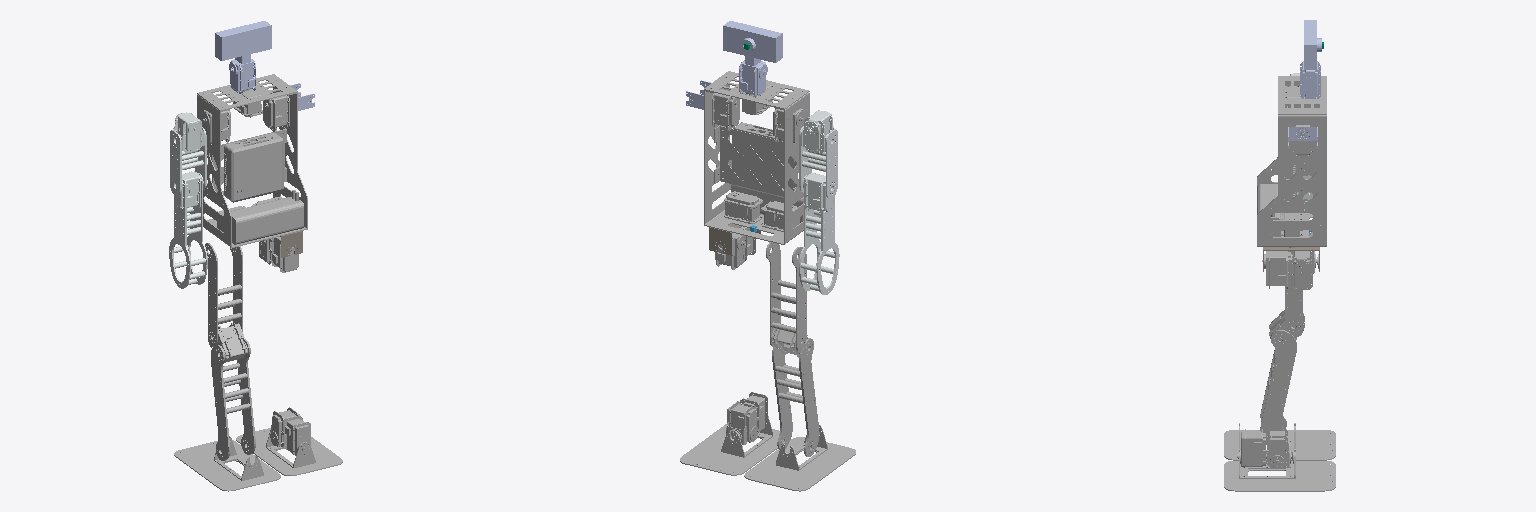
--- What the picture shows (computed from the rendered views, not written in the file) ---
The picture shows the robot from 3 angles, left to right: view 1: azimuth 30°, elevation 25°; view 2: azimuth 150°, elevation 25°; view 3: azimuth 270°, elevation 25°; orthographic projection.
Robot: SAKURA — 24 links, 23 joints (20 continuous, 2 fixed, 1 floating); root link world; default pose: every joint at zero.
Links seen in each view (by area): view 1: TRUNK, LLEG2, LLEG3, LARM2, LFOOT, LARM1, RFOOT, HEAD1, RLEG4, RLEG1, HEAD0; view 2: TRUNK, LFOOT, LARM2, LLEG3, LLEG2, RFOOT, LARM1, HEAD1, RLEG4, RLEG1, HEAD0, RLEG0; view 3: TRUNK, RFOOT, LLEG3, LFOOT, RLEG4, RLEG1, LLEG2, HEAD1, HEAD0.
Boxes of the visible links, bbox=[...] form: TRUNK: bbox=[197, 74, 307, 247]; LLEG2: bbox=[205, 243, 247, 362]; LLEG3: bbox=[211, 339, 255, 460]; LARM2: bbox=[169, 171, 207, 288]; LFOOT: bbox=[174, 436, 280, 491]; LARM1: bbox=[170, 112, 206, 195]; RFOOT: bbox=[236, 428, 342, 475]; HEAD1: bbox=[215, 21, 271, 63]; RLEG4: bbox=[270, 407, 310, 455]; RLEG1: bbox=[259, 237, 298, 272]; HEAD0: bbox=[229, 59, 255, 93]; TRUNK: bbox=[704, 71, 820, 244]; LFOOT: bbox=[744, 425, 855, 491]; LARM2: bbox=[799, 173, 839, 294]; LLEG3: bbox=[772, 338, 819, 456]; LLEG2: bbox=[766, 242, 808, 357]; RFOOT: bbox=[680, 416, 791, 475]; LARM1: bbox=[799, 110, 837, 198]; HEAD1: bbox=[723, 21, 782, 65]; RLEG4: bbox=[726, 392, 767, 444]; RLEG1: bbox=[715, 226, 755, 269]; HEAD0: bbox=[739, 60, 767, 97]; RLEG0: bbox=[709, 224, 760, 255]; TRUNK: bbox=[1257, 76, 1326, 247]; RFOOT: bbox=[1224, 449, 1335, 491]; LLEG3: bbox=[1260, 318, 1296, 441]; LFOOT: bbox=[1224, 423, 1335, 460]; RLEG4: bbox=[1237, 428, 1293, 468]; RLEG1: bbox=[1262, 251, 1318, 289]; LLEG2: bbox=[1269, 232, 1309, 340]; HEAD1: bbox=[1304, 20, 1321, 69]; HEAD0: bbox=[1300, 61, 1320, 98].
Size in the robot's own frame: 0.2935 by 0.208 by 0.8793 metres.
13 mesh visuals loaded from 21 distinct referenced files (13 binary STL); not drawn: 8 (reference not matched to a file when rendering).

The robot description file, URDF, robot "SAKURA":
<?xml version="1.0"?>
<robot
  name="SAKURA">	
    <!-- camera -->
  <gazebo reference="camera_link">
    <sensor type="camera" name="camera">
      <update_rate>30.0</update_rate>
      <camera name="head">
        <horizontal_fov>1.3962634</horizontal_fov>
        <image>
          <width>800</width>
          <height>800</height>
          <format>R8G8B8</format>
        </image>
        <clip>
          <near>0.02</near>
          <far>300</far>
        </clip>
        <noise>
          <type>gaussian</type>
          <!-- Noise is sampled independently per pixel on each frame.
               That pixel's noise value is added to each of its color
               channels, which at that point lie in the range [0,1]. -->
          <mean>0.0</mean>
          <stddev>0.007</stddev>
        </noise>
      </camera>
      <plugin name="camera_controller" filename="libgazebo_ros_camera.so">
        <alwaysOn>true</alwaysOn>
        <updateRate>0.0</updateRate>
        <cameraName>humanoid/camera</cameraName>
        <imageTopicName>image_raw</imageTopicName>
        <cameraInfoTopicName>camera_info</cameraInfoTopicName>
        <frameName>camera_link</frameName>
        <hackBaseline>0.07</hackBaseline>
        <distortionK1>0.0</distortionK1>
        <distortionK2>0.0</distortionK2>
        <distortionK3>0.0</distortionK3>
        <distortionT1>0.0</distortionT1>
        <distortionT2>0.0</distortionT2>
      </plugin>
    </sensor>
  </gazebo>
  
  <gazebo reference="imu_link">
    <gravity>true</gravity>
    <sensor name="imu_sensor" type="imu">
      <always_on>true</always_on>
      <update_rate>125</update_rate>
      <visualize>true</visualize>
      <topic>__default_topic__</topic>
      <plugin filename="libgazebo_ros_imu_sensor.so" name="imu_plugin">
        <topicName>imu/data_raw</topicName>
        <bodyName>imu_link</bodyName>
        <updateRateHZ>125.0</updateRateHZ>
        <gaussianNoise>0.0</gaussianNoise>
        <xyzOffset>0 0 0</xyzOffset>
        <rpyOffset>0 0 0</rpyOffset>
        <frameName>imu_link</frameName>
      </plugin>
      <pose>0 0 0 0 0 0</pose>
    </sensor>
  </gazebo>
  <gazebo>
    <plugin filename="libgazebo_ros_control.so" name="gazebo_ros_control">
      <robotNamespace>/SAKURA</robotNamespace>
      <robotSimType>gazebo_ros_control/DefaultRobotHWSim</robotSimType>
    </plugin>
  </gazebo>
<gazebo reference="J_HEAD0">
	<stopErp>0.2</stopErp>
	<implicitSpringDamper>true</implicitSpringDamper>
	<fudgeFactor value="0.8"/>
	<provideFeedback>true</provideFeedback>
  </gazebo>  
  <gazebo reference="J_HEAD1">
	<stopErp>0.2</stopErp>
	<implicitSpringDamper>true</implicitSpringDamper>
	<fudgeFactor value="0.8"/>
	<provideFeedback>true</provideFeedback>
  </gazebo>  
  <gazebo reference="J_LARM0">
	<stopErp>0.2</stopErp>
	<implicitSpringDamper>true</implicitSpringDamper>
	<fudgeFactor value="0.8"/>
	<provideFeedback>true</provideFeedback>
  </gazebo>  
  <gazebo reference="J_LARM1">
	<stopErp>0.2</stopErp>
	<implicitSpringDamper>true</implicitSpringDamper>
	<fudgeFactor value="0.8"/>
	<provideFeedback>true</provideFeedback>
  </gazebo>  
  <gazebo reference="J_LARM2">
	<stopErp>0.2</stopErp>
	<implicitSpringDamper>true</implicitSpringDamper>
	<fudgeFactor value="0.8"/>
	<provideFeedback>true</provideFeedback>
  </gazebo>  
  <gazebo reference="J_RARM0">
	<stopErp>0.2</stopErp>
	<implicitSpringDamper>true</implicitSpringDamper>
	<fudgeFactor value="0.8"/>
	<provideFeedback>true</provideFeedback>
  </gazebo>  
  <gazebo reference="J_RARM1">
	<stopErp>0.2</stopErp>
	<implicitSpringDamper>true</implicitSpringDamper>
	<fudgeFactor value="0.8"/>
	<provideFeedback>true</provideFeedback>
  </gazebo>  
  <gazebo reference="J_LLEG0">
	<stopErp>0.2</stopErp>
	<implicitSpringDamper>true</implicitSpringDamper>
	<fudgeFactor value="0.8"/>
	<provideFeedback>true</provideFeedback>
  </gazebo>  
  <gazebo reference="J_LLEG1">
	<stopErp>0.2</stopErp>
	<implicitSpringDamper>true</implicitSpringDamper>
	<fudgeFactor value="0.8"/>
	<provideFeedback>true</provideFeedback>
  </gazebo>  
  <gazebo reference="J_LLEG2">
	<stopErp>0.2</stopErp>
	<implicitSpringDamper>true</implicitSpringDamper>
	<fudgeFactor value="0.8"/>
	<provideFeedback>true</provideFeedback>
  </gazebo>  
  <gazebo reference="J_LLEG3">
	<stopErp>0.2</stopErp>
	<implicitSpringDamper>true</implicitSpringDamper>
	<fudgeFactor value="0.8"/>
	<provideFeedback>true</provideFeedback>
  </gazebo>  
  <gazebo reference="J_LLEG4">
	<stopErp>0.2</stopErp>
	<implicitSpringDamper>true</implicitSpringDamper>
	<fudgeFactor value="0.8"/>
	<provideFeedback>true</provideFeedback>
  </gazebo>  
  <gazebo reference="J_RLEG0">
	<stopErp>0.2</stopErp>
	<implicitSpringDamper>true</implicitSpringDamper>
	<fudgeFactor value="0.8"/>
	<provideFeedback>true</provideFeedback>
  </gazebo>  
  <gazebo reference="J_RLEG1">
	<stopErp>0.2</stopErp>
	<implicitSpringDamper>true</implicitSpringDamper>
	<fudgeFactor value="0.8"/>
	<provideFeedback>true</provideFeedback>
  </gazebo>  
  <gazebo reference="J_RLEG2">
	<stopErp>0.2</stopErp>
	<implicitSpringDamper>true</implicitSpringDamper>
	<fudgeFactor value="0.8"/>
	<provideFeedback>true</provideFeedback>
  </gazebo>  
  <gazebo reference="J_RLEG3">
	<stopErp>0.2</stopErp>
	<implicitSpringDamper>true</implicitSpringDamper>
	<fudgeFactor value="0.8"/>
	<provideFeedback>true</provideFeedback>
  </gazebo>  
  <gazebo reference="J_RLEG4">
	<stopErp>0.2</stopErp>
	<implicitSpringDamper>true</implicitSpringDamper>
	<fudgeFactor value="0.8"/>
	<provideFeedback>true</provideFeedback>
  </gazebo> 
  <gazebo reference="J_RARM2">
	<stopErp>0.2</stopErp>
	<implicitSpringDamper>true</implicitSpringDamper>
	<fudgeFactor value="0.8"/>
	<provideFeedback>true</provideFeedback>
  </gazebo> 
  <gazebo reference="J_LFOOT">
	<stopErp>0.2</stopErp>
	<implicitSpringDamper>true</implicitSpringDamper>
	<fudgeFactor value="0.8"/>
	<provideFeedback>true</provideFeedback>
  </gazebo>  
  <gazebo reference="J_RFOOT">
	<stopErp>0.2</stopErp>
	<implicitSpringDamper>true</implicitSpringDamper>
	<fudgeFactor value="0.8"/>
	<provideFeedback>true</provideFeedback>
  </gazebo>  
  <gazebo reference="TRUNK">
    <mu1>1.0</mu1>
    <mu2>1.0</mu2>
    <kp>1220000.0</kp>
    <kd>1.0</kd> <!---->
  </gazebo>
  <gazebo reference="RFOOT">
    <mu1>1.0</mu1>
    <mu2>1.0</mu2>
    <kp>1220000.0</kp>
    <kd>1.0</kd> <!---->
  </gazebo>
  <gazebo reference="LFOOT">
    <mu1>1.0</mu1>
    <mu2>1.0</mu2>
    <kp>1220000.0</kp>
    <kd>1.0</kd> <!---->
  </gazebo>  
<!-- FT SENSORS -->
<!--  <gazebo>
	<plugin name="ft_sensor" filename="libgazebo_ros_ft_sensor.so">
	  <updateRate>100.0</updateRate>
	  <topicName>ft_sensor_head0</topicName>
	  <jointName>J_HEAD0</jointName>
	</plugin>
  </gazebo>
  <gazebo>
	<plugin name="ft_sensor" filename="libgazebo_ros_ft_sensor.so">
	  <updateRate>100.0</updateRate>
	  <topicName>ft_sensor_head1</topicName>
	  <jointName>J_HEAD1</jointName>
	</plugin>
  </gazebo>

  <gazebo>
	<plugin name="ft_sensor" filename="libgazebo_ros_ft_sensor.so">
	  <updateRate>100.0</updateRate>
	  <topicName>ft_sensor_larm0</topicName>
	  <jointName>J_LARM0</jointName>
	</plugin>
  </gazebo>
  <gazebo>
	<plugin name="ft_sensor" filename="libgazebo_ros_ft_sensor.so">
	  <updateRate>100.0</updateRate>
	  <topicName>ft_sensor_larm1</topicName>
	  <jointName>J_LARM1</jointName>
	</plugin>
  </gazebo>
  <gazebo>
	<plugin name="ft_sensor" filename="libgazebo_ros_ft_sensor.so">
	  <updateRate>100.0</updateRate>
	  <topicName>ft_sensor_larm2</topicName>
	  <jointName>J_LARM2</jointName>
	</plugin>
  </gazebo>
  
  
    <gazebo>
	<plugin name="ft_sensor" filename="libgazebo_ros_ft_sensor.so">
	  <updateRate>100.0</updateRate>
	  <topicName>ft_sensor_rarm0</topicName>
	  <jointName>J_RARM0</jointName>
	</plugin>
  </gazebo>
  <gazebo>
	<plugin name="ft_sensor" filename="libgazebo_ros_ft_sensor.so">
	  <updateRate>100.0</updateRate>
	  <topicName>ft_sensor_rarm1</topicName>
	  <jointName>J_RARM1</jointName>
	</plugin>
  </gazebo>
  <gazebo>
	<plugin name="ft_sensor" filename="libgazebo_ros_ft_sensor.so">
	  <updateRate>100.0</updateRate>
	  <topicName>ft_sensor_rarm2</topicName>
	  <jointName>J_RARM2</jointName>
	</plugin>
  </gazebo>
  
  
  
  <gazebo>
	<plugin name="ft_sensor" filename="libgazebo_ros_ft_sensor.so">
	  <updateRate>100.0</updateRate>
	  <topicName>ft_sensor_lleg0</topicName>
	  <jointName>J_LLEG0</jointName>
	</plugin>
  </gazebo>
    <gazebo>
	<plugin name="ft_sensor" filename="libgazebo_ros_ft_sensor.so">
	  <updateRate>100.0</updateRate>
	  <topicName>ft_sensor_lleg1</topicName>
	  <jointName>J_LLEG1</jointName>
	</plugin>
  </gazebo>
    <gazebo>
	<plugin name="ft_sensor" filename="libgazebo_ros_ft_sensor.so">
	  <updateRate>100.0</updateRate>
	  <topicName>ft_sensor_lleg2</topicName>
	  <jointName>J_LLEG2</jointName>
	</plugin>
  </gazebo>
    <gazebo>
	<plugin name="ft_sensor" filename="libgazebo_ros_ft_sensor.so">
	  <updateRate>100.0</updateRate>
	  <topicName>ft_sensor_lleg3</topicName>
	  <jointName>J_LLEG3</jointName>
	</plugin>
  </gazebo>
    <gazebo>
	<plugin name="ft_sensor" filename="libgazebo_ros_ft_sensor.so">
	  <updateRate>100.0</updateRate>
	  <topicName>ft_sensor_lleg4</topicName>
	  <jointName>J_LLEG4</jointName>
	</plugin>
  </gazebo>
    <gazebo>
	<plugin name="ft_sensor" filename="libgazebo_ros_ft_sensor.so">
	  <updateRate>100.0</updateRate>
	  <topicName>ft_sensor_lfoot</topicName>
	  <jointName>J_LFOOT</jointName>
	</plugin>
  </gazebo>
  
    <gazebo>
	<plugin name="ft_sensor" filename="libgazebo_ros_ft_sensor.so">
	  <updateRate>100.0</updateRate>
	  <topicName>ft_sensor_rleg0</topicName>
	  <jointName>J_RLEG0</jointName>
	</plugin>
  </gazebo>
    <gazebo>
	<plugin name="ft_sensor" filename="libgazebo_ros_ft_sensor.so">
	  <updateRate>100.0</updateRate>
	  <topicName>ft_sensor_rleg1</topicName>
	  <jointName>J_RLEG1</jointName>
	</plugin>
  </gazebo>
    <gazebo>
	<plugin name="ft_sensor" filename="libgazebo_ros_ft_sensor.so">
	  <updateRate>100.0</updateRate>
	  <topicName>ft_sensor_rleg2</topicName>
	  <jointName>J_RLEG2</jointName>
	</plugin>
  </gazebo>
    <gazebo>
	<plugin name="ft_sensor" filename="libgazebo_ros_ft_sensor.so">
	  <updateRate>100.0</updateRate>
	  <topicName>ft_sensor_rleg3</topicName>
	  <jointName>J_RLEG3</jointName>
	</plugin>
  </gazebo>
    <gazebo>
	<plugin name="ft_sensor" filename="libgazebo_ros_ft_sensor.so">
	  <updateRate>100.0</updateRate>
	  <topicName>ft_sensor_rleg4</topicName>
	  <jointName>J_RLEG4</jointName>
	</plugin>
  </gazebo>
    <gazebo>
	<plugin name="ft_sensor" filename="libgazebo_ros_ft_sensor.so">
	  <updateRate>100.0</updateRate>
	  <topicName>ft_sensor_rfoot</topicName>
	  <jointName>J_RFOOT</jointName>
	</plugin>
  </gazebo>
  
  -->
  
  
  

  <link name="world">  </link>
  
  <link name="imu_link">
    <collision>
      <origin xyz="0 0 0" rpy="0 0 0"/>
      <geometry>
    <box size="0.01 0.01 0.01"/>
      </geometry>
    </collision>

    <visual>
      <origin xyz="0 0 0" rpy="0 0 0"/>
      <geometry>
    <box size="0.01 0.01 0.01"/>
      </geometry>
      <material name="red"/>
    </visual>

    <inertial>
      <mass value="1e-5" />
      <origin xyz="0 0 0" rpy="0 0 0"/>
      <inertia ixx="1e-6" ixy="0" ixz="0" iyy="1e-6" iyz="0" izz="1e-6" />
    </inertial>
  </link>
  <joint name="imu_joint" type="fixed">
    <axis xyz="-1 0 0" />
    <origin xyz="0 0 0" rpy="0 0 0"/>
    <parent link="TRUNK"/>
    <child link="imu_link"/>
  </joint>
  
  
   <!-- Camera -->
  <link name="camera_link">
    <visual>
      <origin xyz="0 0 0" rpy="0 0 0"/>
      <geometry>
    <box size="0.01 0.01 0.01"/>
      </geometry>
      <material name="red"/>
    </visual>

    <inertial>
      <mass value="1e-5" />
      <origin xyz="0 0 0" rpy="0 0 0"/>
      <inertia ixx="1e-6" ixy="0" ixz="0" iyy="1e-6" iyz="0" izz="1e-6" />
    </inertial>
  </link>
  
  <joint name="camera_joint" type="fixed">
    <axis xyz="0 0 1" />
    <origin xyz="0.02 0.055 0.00" rpy="-1.5707 0 0"/>
    <parent link="HEAD1"/>
    <child link="camera_link"/>
  </joint>

  
  
  
  <link
    name="TRUNK">
    <inertial>
      <origin
        xyz="-0.000142944293532541 -0.0159940135836359 0.119253638413231"
        rpy="0 0 0" />
      <mass
        value="1.4778155091901" />
      <inertia
        ixx="0.0125398154437975"
        ixy="-2.68478156217668E-06"
        ixz="-7.17353402812125E-06"
        iyy="0.016695640033345"
        iyz="0.000776177026664091"
        izz="0.01567882258573842" />
    </inertial>
    <visual>
      <origin
        xyz="0 0 0"
        rpy="0 0 0" />
      <geometry>
        <mesh
          filename="package://sakura_description/meshes/TRUNK.STL" />
      </geometry>
      <material
        name="">
        <color
          rgba="0.752941176470588 0.752941176470588 0.752941176470588 1" />
      </material>
    </visual>
  </link>
  <joint name="fixed" type="floating">
    <parent link="world"/>
    <child link="TRUNK"/>
    <origin xyz="0 0 0.50" rpy="0 0 0"/>
  </joint>
  <link
    name="HEAD0">
    <inertial>
      <origin
        xyz="-4.1596E-06 -0.00045169 0.0273"
        rpy="0 0 0" />
      <mass
        value="0.072495" />
      <inertia ixx="1e-3" ixy="0" ixz="0" iyy="1e-3" iyz="0" izz="1e-3" />
    </inertial>
    <visual>
      <origin
        xyz="0 0 0"
        rpy="0 0 0" />
      <geometry>
        <mesh
          filename="package://sakura_description/meshes/HEAD0.STL" />
      </geometry>
      <material
        name="">
        <color
          rgba="0.79216 0.81961 0.93333 1" />
      </material>
    </visual>
  </link>
  <link
    name="HEAD1">
    <inertial>
      <origin
        xyz="0.000492167176094648 0.0499545659310894 -2.08166817117217E-17"
        rpy="0 0 0" />
      <mass
        value="0.160467558648652" />
      <inertia ixx="1e-3" ixy="0" ixz="0" iyy="1e-3" iyz="0" izz="1e-3" />
    </inertial>
    <visual>
      <origin
        xyz="0 0 0"
        rpy="0 0 0" />
      <geometry>
        <mesh
          filename="package://sakura_description/meshes/HEAD1.STL" />
      </geometry>
      <material
        name="">
        <color
          rgba="0.792156862745098 0.819607843137255 0.933333333333333 1" />
      </material>
    </visual>
  </link>

  
  <joint
    name="J_HEAD0"
    type="continuous">
    <origin
      xyz="0 0.002 0.2785"
      rpy="1.4544E-15 -1.8159E-16 -1.5708" />
    <parent
      link="TRUNK" />
    <child
      link="HEAD0" />
    <axis
      xyz="0 0 1" />
    <limit
      effort="10"
      velocity="8.58" />
    <dynamics 
	  damping="0.7"
	  friction="0.5"/>
  </joint>
  
  <joint
    name="J_HEAD1"
    type="continuous">
    <origin
      xyz="0 -0.0005 0.0425"
      rpy="1.5708 1.2443E-15 3.1416" />
    <parent
      link="HEAD0" />
    <child
      link="HEAD1" />
    <axis
      xyz="0 0 -1" />
    <limit
      effort="10"
      velocity="8.58" />
    <dynamics 
	  damping="0.7"
	  friction="0.5"/>
  </joint>
  
  <link
    name="LARM0">
    <inertial>
      <origin
        xyz="4.16333634234434E-17 2.77555756156289E-17 0.0103025666414173"
        rpy="0 0 0" />
      <mass
        value="0.0066175226097181" />
      <inertia
        ixx="1.E-03"
        ixy="0"
        ixz="0"
        iyy="1.E-03"
        iyz="0"
        izz="1.E-03" />
    </inertial>
    <visual>
      <origin
        xyz="0 0 0"
        rpy="0 0 0" />
      <geometry>
        <mesh
          filename="package://sakura_description/meshes/LARM0.STL" />
      </geometry>
      <material
        name="">
        <color
          rgba="0.792156862745098 0.819607843137255 0.933333333333333 1" />
      </material>
    </visual>
  </link>
  <joint
    name="J_LARM0"
    type="continuous">
    <origin
      xyz="-0.094 -0.0125 0.237"
      rpy="1.5708 3.14159 -1.5708" />
    <parent
      link="TRUNK" />
    <child
      link="LARM0" />
    <axis
      xyz="0 0 1" />
    <limit
      effort="10"
      velocity="8.58" />
    <dynamics 
     damping="0.7"
     friction="0.5"/>
  </joint>
  <link
    name="LARM1">
    <inertial>
      <origin
        xyz="-0.000203905909046856 -0.0358166170046635 -0.030724518771744"
        rpy="0 0 0" />
      <mass
        value="0.386889741732442" />
      <inertia
        ixx="0.001319462933467775"
        ixy="-7.00859671208955E-06"
        ixz="-6.33921748509821E-09"
        iyy="0.001"
        iyz="6.46973244600118E-07"
        izz="0.001386423060557297" />
    </inertial>
    <visual>
      <origin
        xyz="0 0 0"
        rpy="0 0 0" />
      <geometry>
        <mesh
          filename="package://sakura_description/meshes/LARM1.STL" />
      </geometry>
      <material
        name="">
        <color
          rgba="0.898039215686275 0.92156862745098 0.929411764705882 1" />
      </material>
    </visual>
  </link>
  <joint
    name="J_LARM1"
    type="continuous">
    <origin
      xyz="-0.0308 0 0.036"
      rpy="3.1416 1.5708 0" />
    <parent
      link="LARM0" />
    <child
      link="LARM1" />
    <axis
      xyz="0 0 -1" />
    <limit
      effort="10"
      velocity="8.58" />
        <dynamics 
     damping="0.7"
     friction="0.5"/>
  </joint>
  <link
    name="LARM2">
    <inertial>
      <origin
        xyz="-0.000946892853796732 -0.0604743903550126 -0.030549305382329"
        rpy="0 0 0" />
      <mass
        value="0.417770884687889" />
      <inertia
        ixx="0.00130365609096481"
        ixy="-2.20058971275383E-05"
        ixz="-1.13235654810576E-07"
        iyy="0.001"
        iyz="-4.76741794550902E-06"
        izz="0.00130522583526536" />
    </inertial>
    <visual>
      <origin
        xyz="0 0 0"
        rpy="0 0 0" />
      <geometry>
        <mesh
          filename="package://sakura_description/meshes/LARM2.STL" />
      </geometry>
      <material
        name="">
        <color
          rgba="0.898039215686275 0.92156862745098 0.929411764705882 1" />
      </material>
    </visual>
  </link>
  <joint
    name="J_LARM2"
    type="continuous">
    <origin
      xyz="0.0307 -0.1235 -0.0308"
      rpy="0 1.5708 0" />
    <parent
      link="LARM1" />
    <child
      link="LARM2" />
    <axis
      xyz="0 0 -1" />
    <limit
      effort="10"
      velocity="8.58" />
        <dynamics 
     damping="0.7"
     friction="0.5"/>
  </joint>
  <link
    name="RARM0">
    <inertial>
      <origin
        xyz="-4.16333634234434E-17 0 0.0103025666414173"
        rpy="0 0 0" />
      <mass
        value="0.00661752260971814" />
      <inertia
        ixx="1.E-03"
        ixy="0"
        ixz="0"
        iyy="1.E-03"
        iyz="0"
        izz="1.E-03" />
    </inertial>
    <visual>
      <origin
        xyz="0 0 0"
        rpy="0 0 0" />
      <geometry>
        <mesh
          filename="package://sakura_description/meshes/RARM0.STL" />
      </geometry>
      <material
        name="">
        <color
          rgba="0.792156862745098 0.819607843137255 0.933333333333333 1" />
      </material>
    </visual>
  </link>
  <joint
    name="J_RARM0"
    type="continuous">
    <origin
      xyz="0.094 -0.0125 0.237"
      rpy="-1.5708 -6.1121E-16 -1.5708" />
    <parent
      link="TRUNK" />
    <child
      link="RARM0" />
    <axis
      xyz="0 0 1" />
    <limit
      effort="10"
      velocity="8.58" />
        <dynamics 
     damping="0.7"
     friction="0.5"/>
  </joint>
  <link
    name="RARM1">
    <inertial>
      <origin
        xyz="-0.00020391 -0.035817 -0.030725"
        rpy="0 0 0" />
      <mass
        value="0.38689" />
      <inertia
        ixx="0.00131946"
        ixy="-7.0086E-06"
        ixz="-6.3392E-09"
        iyy="0.001"
        iyz="6.4697E-07"
        izz="0.00138642" />
    </inertial>
    <visual>
      <origin
        xyz="0 0 0"
        rpy="0 0 0" />
      <geometry>
        <mesh
          filename="package://sakura_description/meshes/RARM1.STL" />
      </geometry>
      <material
        name="">
        <color
          rgba="0.89804 0.92157 0.92941 1" />
      </material>
    </visual>
  </link>
  <joint
    name="J_RARM1"
    type="continuous">
    <origin
      xyz="-0.0308 0 0.036"
      rpy="3.1416 1.5708 0" />
    <parent
      link="RARM0" />
    <child
      link="RARM1" />
    <axis
      xyz="0 0 1" />
    <limit
      effort="10"
      velocity="8.58" />
        <dynamics 
     damping="0.7"
     friction="0.5"/>
  </joint>
  <link
    name="RARM2">
    <inertial>
      <origin
        xyz="-0.000946892853796774 -0.0604743903550127 -0.0305493053823289"
        rpy="0 0 0" />
      <mass
        value="0.417770884687889" />
      <inertia
        ixx="0.00130365609096481"
        ixy="-2.20058971275389E-05"
        ixz="-1.13235654810633E-07"
        iyy="0.001"
        iyz="-4.76741794550966E-06"
        izz="0.00130522583526536" />
    </inertial>
    <visual>
      <origin
        xyz="0 0 0"
        rpy="0 0 0" />
      <geometry>
        <mesh
          filename="package://sakura_description/meshes/RARM2.STL" />
      </geometry>
      <material
        name="">
        <color
          rgba="0.898039215686275 0.92156862745098 0.929411764705882 1" />
      </material>
    </visual>
  </link>
  <joint
    name="J_RARM2"
    type="continuous">
    <origin
      xyz="0.0307 -0.1235 -0.0308"
      rpy="0 1.5708 0" />
    <parent
      link="RARM1" />
    <child
      link="RARM2" />
    <axis
      xyz="0 0 -1" />
    <limit
      effort="10"
      velocity="8.58" />
        <dynamics 
     damping="0.7"
     friction="0.5"/>
  </joint>
  <link
    name="LLEG0">
    <inertial>
      <origin
        xyz="1.38777878078145E-17 1.38777878078145E-17 0.012339611662812"
        rpy="0 0 0" />
      <mass
        value="0.137487098095279" />
      <inertia
        ixx="0.001"
        ixy="0"
        ixz="0"
        iyy="0.001"
        iyz="0"
        izz="0.001" />
    </inertial>
    <visual>
      <origin
        xyz="0 0 0"
        rpy="0 0 0" />
      <geometry>
        <mesh
          filename="package://sakura_description/meshes/LLEG0.STL" />
      </geometry>
      <material
        name="">
        <color
          rgba="0.650980392156863 0.619607843137255 0.588235294117647 1" />
      </material>
    </visual>
  </link>
  <joint
    name="J_LLEG0"
    type="continuous">
    <origin
      xyz="-0.057 -0.0325 -0.005"
      rpy="-3.14159265358979 1.21430643318376E-16 -1.5707963267949" />
    <parent
      link="TRUNK" />
    <child
      link="LLEG0" />
    <axis
      xyz="0 0 1" />
    <limit
      effort="10"
      velocity="8.58" />
        <dynamics 
     damping="0.7"
     friction="0.5"/>
  </joint>
  <link
    name="LLEG1">
    <inertial>
      <origin
        xyz="-4.90216563097182E-05 -0.014933566350856 -0.0542307430726147"
        rpy="0 0 0" />
      <mass
        value="0.484317524341268" />
      <inertia
        ixx="0.001258532465487086"
        ixy="-1.08430216395215E-08"
        ixz="-4.93107012410751E-07"
        iyy="0.001256538006237082"
        iyz="8.86337248194806E-06"
        izz="0.001" />
    </inertial>
    <visual>
      <origin
        xyz="0 0 0"
        rpy="0 0 0" />
      <geometry>
        <mesh
          filename="package://sakura_description/meshes/LLEG1.STL" />
      </geometry>
      <material
        name="">
        <color
          rgba="0.752941176470588 0.752941176470588 0.752941176470588 1" />
      </material>
    </visual>
  </link>
  <joint
    name="J_LLEG1"
    type="continuous">
    <origin
      xyz="0.056 0 0.036"
      rpy="-1.5707963267949 -1.22338662637834E-16 -1.5707963267949" />
    <parent
      link="LLEG0" />
    <child
      link="LLEG1" />
    <axis
      xyz="0 0 -1" />
    <limit
      effort="10"
      velocity="8.58" />
        <dynamics 
     damping="0.7"
     friction="0.5"/>
  </joint>
  <link
    name="LLEG2">
    <inertial>
      <origin
        xyz="0.0896135033902749 -0.121669815792639 -0.0285739776731877"
        rpy="0 0 0" />
      <mass
        value="0.429581814867276" />
      <inertia
        ixx="0.001739443276879588"
        ixy="0.000469298592224479"
        ixz="-4.17657698668898E-06"
        iyy="0.00145781924000273"
        iyz="4.49877955818474E-06"
        izz="0.00100793675092908" />
    </inertial>
    <visual>
      <origin
        xyz="0 0 0"
        rpy="0 0 0" />
      <geometry>
        <mesh
          filename="package://sakura_description/meshes/LLEG2.STL" />
      </geometry>
      <material
        name="">
        <color
          rgba="0.752941176470588 0.752941176470588 0.752941176470588 1" />
      </material>
    </visual>
  </link>
  <joint
    name="J_LLEG2"
    type="continuous">
    <origin
      xyz="0.0289999999999999 0 -0.0750000000000234"
      rpy="-1.5707963267949 0.78539816339745 -1.5707963267949" />
    <parent
      link="LLEG1" />
    <child
      link="LLEG2" />
    <axis
      xyz="0 0 1" />
    <limit
      effort="10"
      velocity="8.58" />
        <dynamics 
     damping="0.7"
     friction="0.5"/>
  </joint>
  <link
    name="LLEG3">
    <inertial>
      <origin
        xyz="0.0938607247050214 0.021121469241447 -0.0266864244548486"
        rpy="0 0 0" />
      <mass
        value="0.253457988874213" />
      <inertia
        ixx="0.001157893827081503"
        ixy="4.33507693026071E-06"
        ixz="2.38137513758817E-06"
        iyy="0.001215254509125973"
        iyz="4.49605098935315E-06"
        izz="0.001" />
    </inertial>
    <visual>
      <origin
        xyz="0 0 0"
        rpy="0 0 0" />
      <geometry>
        <mesh
          filename="package://sakura_description/meshes/LLEG3.STL" />
      </geometry>
      <material
        name="">
        <color
          rgba="0.752941176470588 0.752941176470588 0.752941176470588 1" />
      </material>
    </visual>
  </link>
  <joint
    name="J_LLEG3"
    type="continuous">
    <origin
      xyz="0.112429978208667 -0.169643181644254 0.00160000000000024"
      rpy="-0.0320557226319531 0.0283578707512148 -1.01721646459287" />
    <parent
      link="LLEG2" />
    <child
      link="LLEG3" />
    <axis
      xyz="-0.0283540701513945 -0.0320373469653184 0.999084408398647" />
    <limit
      effort="10"
      velocity="8.58" />
        <dynamics 
     damping="0.7"
     friction="0.5"/>  
  </joint>
  <link
    name="LLEG4">
    <inertial>
      <origin
        xyz="0.0207692569273853 -0.0149335663508559 -0.0309509783436903"
        rpy="0 0 0" />
      <mass
        value="0.484317524341267" />
      <inertia
        ixx="0.001"
        ixy="8.86337248194725E-06"
        ixz="4.93107012410836E-07"
        iyy="0.001256538006237082"
        iyz="1.08430216395228E-08"
        izz="0.001258532465487085" />
    </inertial>
    <visual>
      <origin
        xyz="0 0 0"
        rpy="0 0 0" />
      <geometry>
        <mesh
          filename="package://sakura_description/meshes/LLEG4.STL" />
      </geometry>
      <material
        name="">
        <color
          rgba="0.752941176470588 0.752941176470588 0.752941176470588 1" />
      </material>
    </visual>
  </link>
  <joint
    name="J_LLEG4"
    type="continuous">
    <origin
      xyz="0.19759 0.040682 0.007913"
      rpy="0.034963 0.024684 -1.339" />
    <parent
      link="LLEG3" />
    <child
      link="LLEG4" />
    <axis
      xyz="0 0 -1" />
    <limit
      effort="10"
      velocity="8.58" />
        <dynamics 
     damping="0.7"
     friction="0.5"/>
  </joint>
  <link
    name="LFOOT">
    <inertial>
      <origin
        xyz="-0.00984398078216434 0.033081446163245 0.0742424926896279"
        rpy="0 0 0" />
      <mass
        value="0.474832547151362" />
      <inertia
        ixx="0.001"
        ixy="8.95545085142721E-06"
        ixz="2.1883900378474E-05"
        iyy="0.001"
        iyz="-1.93251189181957E-05"
        izz="0.001" />
    </inertial>
    <visual>
      <origin
        xyz="0 0 0"
        rpy="0 0 0" />
      <geometry>
        <mesh
          filename="package://sakura_description/meshes/LFOOT.STL" />
      </geometry>
      <material
        name="">
        <color
          rgba="0.752941176470588 0.752941176470588 0.752941176470588 1" />
      </material>
    </visual>
    <collision>
      <origin
        xyz="-0.01 0.021 0.078"
        rpy="0 0 0" />
        <geometry>
          <box size="0.13 0.03 0.208"/>
        </geometry>
    </collision>
  </link>
  <joint
    name="J_LFOOT"
    type="continuous">
    <origin
      xyz="0.072 0 -0.031"
      rpy="0 -1.5708 0" />
    <parent
      link="LLEG4" />
    <child
      link="LFOOT" />
    <axis
      xyz="0 0 -1" />
    <limit
      effort="10"
      velocity="8.58" />
        <dynamics 
     damping="0.7"
     friction="0.5"/>
  </joint>
  <link
    name="RLEG0">
    <inertial>
      <origin
        xyz="0 1.38777878078145E-17 0.012339611662812"
        rpy="0 0 0" />
      <mass
        value="0.137487098095279" />
      <inertia
        ixx="0.001"
        ixy="0"
        ixz="0"
        iyy="0.001"
        iyz="0"
        izz="0.001" />
    </inertial>
    <visual>
      <origin
        xyz="0 0 0"
        rpy="0 0 0" />
      <geometry>
        <mesh
          filename="package://sakura_description/meshes/RLEG0.STL" />
      </geometry>
      <material
        name="">
        <color
          rgba="0.650980392156863 0.619607843137255 0.588235294117647 1" />
      </material>
    </visual>
  </link>
  <joint
    name="J_RLEG0"
    type="continuous">
    <origin
      xyz="0.057 -0.0325 -0.005"
      rpy="-3.14159265358979 1.21430643318376E-16 -1.5707963267949" />
    <parent
      link="TRUNK" />
    <child
      link="RLEG0" />
    <axis
      xyz="0 0 1" />
    <limit
      effort="10"
      velocity="8.58" />
        <dynamics 
     damping="0.7"
     friction="0.5"/>
  </joint>
  <link
    name="RLEG1">
    <inertial>
      <origin
        xyz="-4.9022E-05 -0.014934 -0.054231"
        rpy="0 0 0" />
      <mass
        value="0.48432" />
      <inertia
        ixx="0.00125853"
        ixy="-1.0843E-08"
        ixz="-4.9311E-07"
        iyy="0.00125654"
        iyz="8.8634E-06"
        izz="0.001" />
    </inertial>
    <visual>
      <origin
        xyz="0 0 0"
        rpy="0 0 0" />
      <geometry>
        <mesh
          filename="package://sakura_description/meshes/RLEG1.STL" />
      </geometry>
      <material
        name="">
        <color
          rgba="0.75294 0.75294 0.75294 1" />
      </material>
    </visual>
  </link>
  <joint
    name="J_RLEG1"
    type="continuous">
    <origin
      xyz="0.056 0 0.036"
      rpy="-1.5707963267949 2.66239395980971E-16 -1.5707963267949" />
    <parent
      link="RLEG0" />
    <child
      link="RLEG1" />
    <axis
      xyz="0 0 -1" />
    <limit
      effort="10"
      velocity="8.58" />
        <dynamics 
     damping="0.7"
     friction="0.5"/>
  </joint>
  <link
    name="RLEG2">
    <inertial>
      <origin
        xyz="0.089613503390275 -0.121669815792639 -0.0285739776731877"
        rpy="0 0 0" />
      <mass
        value="0.429581814867276" />
      <inertia
        ixx="0.001739443276879589"
        ixy="0.00046929859222448"
        ixz="-4.17657698668821E-06"
        iyy="0.001457819240002731"
        iyz="4.49877955818371E-06"
        izz="0.00100793675092908" />
    </inertial>
    <visual>
      <origin
        xyz="0 0 0"
        rpy="0 0 0" />
      <geometry>
        <mesh
          filename="package://sakura_description/meshes/RLEG2.STL" />
      </geometry>
      <material
        name="">
        <color
          rgba="0.752941176470588 0.752941176470588 0.752941176470588 1" />
      </material>
    </visual>
  </link>
  <joint
    name="J_RLEG2"
    type="continuous">
    <origin
      xyz="0.0290000000000001 0 -0.075"
      rpy="-1.5707963267949 0.78539816339745 -1.5707963267949" />
    <parent
      link="RLEG1" />
    <child
      link="RLEG2" />
    <axis
      xyz="0 0 -1" />
    <limit
      effort="10"
      velocity="8.58" />
        <dynamics 
     damping="0.7"
     friction="0.5"/>
  </joint>
  <link
    name="RLEG3">
    <inertial>
      <origin
        xyz="0.093861 0.021121 -0.026686"
        rpy="0 0 0" />
      <mass
        value="0.25346" />
      <inertia
        ixx="0.00115789"
        ixy="4.3351E-06"
        ixz="2.3814E-06"
        iyy="0.00121525"
        iyz="4.4961E-06"
        izz="0.001" />
    </inertial>
    <visual>
      <origin
        xyz="0 0 0"
        rpy="0 0 0" />
      <geometry>
        <mesh
          filename="package://sakura_description/meshes/RLEG3.STL" />
      </geometry>
      <material
        name="">
        <color
          rgba="0.75294 0.75294 0.75294 1" />
      </material>
    </visual>
  </link>
  <joint
    name="J_RLEG3"
    type="continuous">
    <origin
      xyz="0.112429978208668 -0.169643181644253 0.00160000000000014"
      rpy="-0.0320557226319534 0.0283578707512146 -1.01721646459286" />
    <parent
      link="RLEG2" />
    <child
      link="RLEG3" />
    <axis
      xyz="0.0283540701513948 0.0320373469653193 -0.999084408398647" />
    <limit
      effort="10"
      velocity="8.58" />
        <dynamics 
     damping="0.7"
     friction="0.5"/>
  </joint>
  <link
    name="RLEG4">
    <inertial>
      <origin
        xyz="0.0207692569273853 -0.014933566350856 -0.0309509783436903"
        rpy="0 0 0" />
      <mass
        value="0.484317524341268" />
      <inertia
        ixx="0.001"
        ixy="8.86337248194835E-06"
        ixz="4.93107012410999E-07"
        iyy="0.001256538006237082"
        iyz="1.08430216395282E-08"
        izz="0.001258532465487085" />
    </inertial>
    <visual>
      <origin
        xyz="0 0 0"
        rpy="0 0 0" />
      <geometry>
        <mesh
          filename="package://sakura_description/meshes/RLEG4.STL" />
      </geometry>
      <material
        name="">
        <color
          rgba="0.752941176470588 0.752941176470588 0.752941176470588 1" />
      </material>
    </visual>
  </link>
  <joint
    name="J_RLEG4"
    type="continuous">
    <origin
      xyz="0.19759 0.040682 0.007913"
      rpy="0.034963 0.024684 -1.339" />
    <parent
      link="RLEG3" />
    <child
      link="RLEG4" />
    <axis
      xyz="0 0 1" />
    <limit
      effort="10"
      velocity="8.58" />
        <dynamics 
     damping="0.7"
     friction="0.5"/>
  </joint>
  <link
    name="RFOOT">
    <inertial>
      <origin
        xyz="0.009844 0.033081 0.074242"
        rpy="0 0 0" />
      <mass
        value="0.47483" />
      <inertia
        ixx="0.001"
        ixy="-8.9555E-06"
        ixz="-2.1884E-05"
        iyy="0.001"
        iyz="-1.9325E-05"
        izz="0.001" />
    </inertial>
    <visual>
      <origin
        xyz="0 0 0"
        rpy="0 0 0" />
      <geometry>
        <mesh
          filename="package://sakura_description/meshes/RFOOT.STL" />
      </geometry>
      <material
        name="">
        <color
          rgba="0.75294 0.75294 0.75294 1" />
      </material>
    </visual>
    <collision>
      <origin
        xyz="0.01 0.021 0.078"
        rpy="0 0 0" />
        <geometry>
          <box size="0.13 0.03 0.208"/>
        </geometry>
    </collision>
  </link>
  <joint
    name="J_RFOOT"
    type="continuous">
    <origin
      xyz="0.072 0 -0.031"
      rpy="0 -1.5708 0" />
    <parent
      link="RLEG4" />
    <child
      link="RFOOT" />
    <axis
      xyz="0 0 -1" />
    <limit
      effort="10"
      velocity="8.58" />
        <dynamics 
     damping="0.7"
     friction="0.5"/>
  </joint>
  
  
    <transmission name="T_HEAD0">
	<type>transmission_interface/SimpleTransmission</type>
	<joint name="J_HEAD0">
	  <hardwareInterface>hardware_interface/EffortJointInterface</hardwareInterface>
	</joint>
	<actuator name="M_HEAD0">
	  <hardwareInterface>hardware_interface/EffortJointInterface</hardwareInterface>
	  <mechanicalReduction>1</mechanicalReduction>
	</actuator>
  </transmission>
  
  <transmission name="T_HEAD1">
	<type>transmission_interface/SimpleTransmission</type>
	<joint name="J_HEAD1">
	  <hardwareInterface>hardware_interface/EffortJointInterface</hardwareInterface>
	</joint>
	<actuator name="M_HEAD1">
	  <hardwareInterface>hardware_interface/EffortJointInterface</hardwareInterface>
	  <mechanicalReduction>1</mechanicalReduction>
	</actuator>
  </transmission>
  
  <transmission name="T_RARM0">
	<type>transmission_interface/SimpleTransmission</type>
	<joint name="J_RARM0">
	  <hardwareInterface>hardware_interface/EffortJointInterface</hardwareInterface>
	</joint>
	<actuator name="M_RARM0">
	  <hardwareInterface>hardware_interface/EffortJointInterface</hardwareInterface>
	  <mechanicalReduction>1</mechanicalReduction>
	</actuator>
  </transmission>

  <transmission name="T_RARM1">
	<type>transmission_interface/SimpleTransmission</type>
	<joint name="J_RARM1">
	  <hardwareInterface>hardware_interface/EffortJointInterface</hardwareInterface>
	</joint>
	<actuator name="M_RARM1">
	  <hardwareInterface>hardware_interface/EffortJointInterface</hardwareInterface>
	  <mechanicalReduction>1</mechanicalReduction>
	</actuator>
  </transmission>
  
    <transmission name="T_RARM2">
	<type>transmission_interface/SimpleTransmission</type>
	<joint name="J_RARM2">
	  <hardwareInterface>hardware_interface/EffortJointInterface</hardwareInterface>
	</joint>
	<actuator name="M_RARM2">
	  <hardwareInterface>hardware_interface/EffortJointInterface</hardwareInterface>
	  <mechanicalReduction>1</mechanicalReduction>
	</actuator>
  </transmission>
  
    <transmission name="T_LARM0">
	<type>transmission_interface/SimpleTransmission</type>
	<joint name="J_LARM0">
	  <hardwareInterface>hardware_interface/EffortJointInterface</hardwareInterface>
	</joint>
	<actuator name="M_LARM0">
	  <hardwareInterface>hardware_interface/EffortJointInterface</hardwareInterface>
	  <mechanicalReduction>1</mechanicalReduction>
	</actuator>
  </transmission>

  <transmission name="T_LARM1">
	<type>transmission_interface/SimpleTransmission</type>
	<joint name="J_LARM1">
	  <hardwareInterface>hardware_interface/EffortJointInterface</hardwareInterface>
	</joint>
	<actuator name="M_LARM1">
	  <hardwareInterface>hardware_interface/EffortJointInterface</hardwareInterface>
	  <mechanicalReduction>1</mechanicalReduction>
	</actuator>
  </transmission>
  
    <transmission name="T_LARM2">
	<type>transmission_interface/SimpleTransmission</type>
	<joint name="J_LARM2">
	  <hardwareInterface>hardware_interface/EffortJointInterface</hardwareInterface>
	</joint>
	<actuator name="M_LARM2">
	  <hardwareInterface>hardware_interface/EffortJointInterface</hardwareInterface>
	  <mechanicalReduction>1</mechanicalReduction>
	</actuator>
  </transmission>

  
  
  
    <transmission name="T_RLEG0">
	<type>transmission_interface/SimpleTransmission</type>
	<joint name="J_RLEG0">
	  <hardwareInterface>hardware_interface/EffortJointInterface</hardwareInterface>
	</joint>
	<actuator name="M_RLEG0">
	  <hardwareInterface>hardware_interface/EffortJointInterface</hardwareInterface>
	  <mechanicalReduction>1</mechanicalReduction>
	</actuator>
  </transmission>

  <transmission name="T_RLEG1">
	<type>transmission_interface/SimpleTransmission</type>
	<joint name="J_RLEG1">
	  <hardwareInterface>hardware_interface/EffortJointInterface</hardwareInterface>
	</joint>
	<actuator name="M_RLEG1">
	  <hardwareInterface>hardware_interface/EffortJointInterface</hardwareInterface>
	  <mechanicalReduction>1</mechanicalReduction>
	</actuator>
  </transmission>
  
    <transmission name="T_RLEG2">
	<type>transmission_interface/SimpleTransmission</type>
	<joint name="J_RLEG2">
	  <hardwareInterface>hardware_interface/EffortJointInterface</hardwareInterface>
	</joint>
	<actuator name="M_RLEG2">
	  <hardwareInterface>hardware_interface/EffortJointInterface</hardwareInterface>
	  <mechanicalReduction>1</mechanicalReduction>
	</actuator>
  </transmission>
  
    <transmission name="T_RLEG3">
	<type>transmission_interface/SimpleTransmission</type>
	<joint name="J_RLEG3">
	  <hardwareInterface>hardware_interface/EffortJointInterface</hardwareInterface>
	</joint>
	<actuator name="M_RLEG3">
	  <hardwareInterface>hardware_interface/EffortJointInterface</hardwareInterface>
	  <mechanicalReduction>1</mechanicalReduction>
	</actuator>
  </transmission>
  
   <transmission name="T_RLEG4">
	<type>transmission_interface/SimpleTransmission</type>
	<joint name="J_RLEG4">
	  <hardwareInterface>hardware_interface/EffortJointInterface</hardwareInterface>
	</joint>
	<actuator name="M_RLEG4">
	  <hardwareInterface>hardware_interface/EffortJointInterface</hardwareInterface>
	  <mechanicalReduction>1</mechanicalReduction>
	</actuator>
  </transmission>
  
  <transmission name="T_RFOOT">
	<type>transmission_interface/SimpleTransmission</type>
	<joint name="J_RFOOT">
	  <hardwareInterface>hardware_interface/EffortJointInterface</hardwareInterface>
	</joint>
	<actuator name="M_RFOOT">
	  <hardwareInterface>hardware_interface/EffortJointInterface</hardwareInterface>
	  <mechanicalReduction>1</mechanicalReduction>
	</actuator>
  </transmission>


    <transmission name="T_LLEG0">
	<type>transmission_interface/SimpleTransmission</type>
	<joint name="J_LLEG0">
	  <hardwareInterface>hardware_interface/EffortJointInterface</hardwareInterface>
	</joint>
	<actuator name="M_LLEG0">
	  <hardwareInterface>hardware_interface/EffortJointInterface</hardwareInterface>
	  <mechanicalReduction>1</mechanicalReduction>
	</actuator>
  </transmission>

  <transmission name="T_LLEG1">
	<type>transmission_interface/SimpleTransmission</type>
	<joint name="J_LLEG1">
	  <hardwareInterface>hardware_interface/EffortJointInterface</hardwareInterface>
	</joint>
	<actuator name="M_LLEG1">
	  <hardwareInterface>hardware_interface/EffortJointInterface</hardwareInterface>
	  <mechanicalReduction>1</mechanicalReduction>
	</actuator>
  </transmission>
  
    <transmission name="T_LLEG2">
	<type>transmission_interface/SimpleTransmission</type>
	<joint name="J_LLEG2">
	  <hardwareInterface>hardware_interface/EffortJointInterface</hardwareInterface>
	</joint>
	<actuator name="M_LLEG2">
	  <hardwareInterface>hardware_interface/EffortJointInterface</hardwareInterface>
	  <mechanicalReduction>1</mechanicalReduction>
	</actuator>
  </transmission>
  
    <transmission name="T_LLEG3">
	<type>transmission_interface/SimpleTransmission</type>
	<joint name="J_LLEG3">
	  <hardwareInterface>hardware_interface/EffortJointInterface</hardwareInterface>
	</joint>
	<actuator name="M_LLEG3">
	  <hardwareInterface>hardware_interface/EffortJointInterface</hardwareInterface>
	  <mechanicalReduction>1</mechanicalReduction>
	</actuator>
  </transmission>
  
   <transmission name="T_LLEG4">
	<type>transmission_interface/SimpleTransmission</type>
	<joint name="J_LLEG4">
	  <hardwareInterface>hardware_interface/EffortJointInterface</hardwareInterface>
	</joint>
	<actuator name="M_LLEG4">
	  <hardwareInterface>hardware_interface/EffortJointInterface</hardwareInterface>
	  <mechanicalReduction>1</mechanicalReduction>
	</actuator>
  </transmission>
  
  <transmission name="T_LFOOT">
	<type>transmission_interface/SimpleTransmission</type>
	<joint name="J_LFOOT">
	  <hardwareInterface>hardware_interface/EffortJointInterface</hardwareInterface>
	</joint>
	<actuator name="M_LFOOT">
	  <hardwareInterface>hardware_interface/EffortJointInterface</hardwareInterface>
	  <mechanicalReduction>1</mechanicalReduction>
	</actuator>
  </transmission>



  
</robot>
